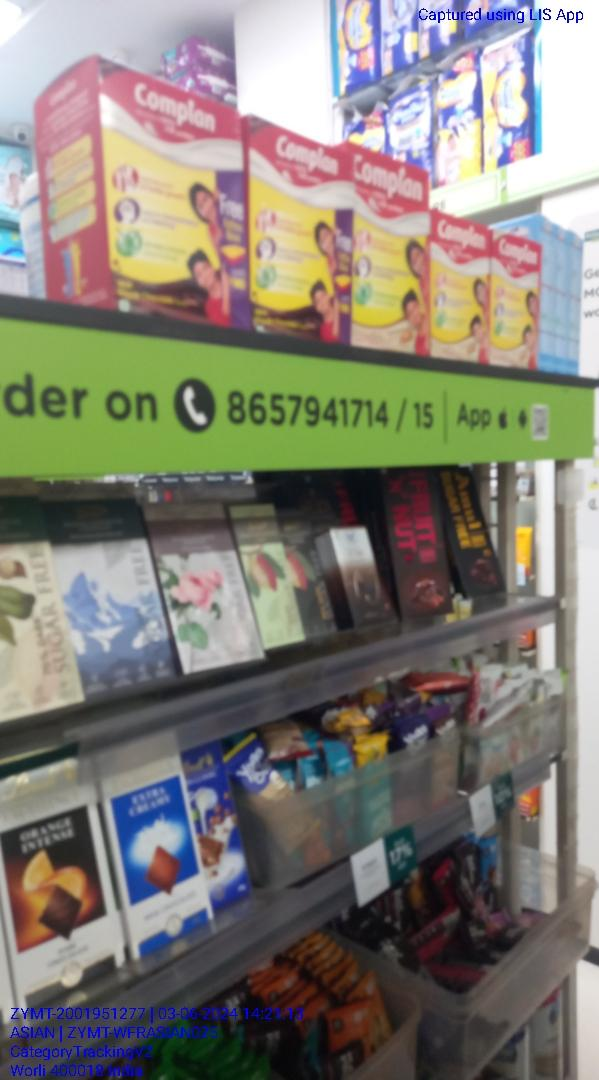COMPLAN_KESAR_BADAM_200_GMS_PACK: (432, 218, 487, 365), (493, 237, 544, 372)
COMPLAN_KESAR_BADAM_500_GMS_PACK: (354, 153, 430, 349)
